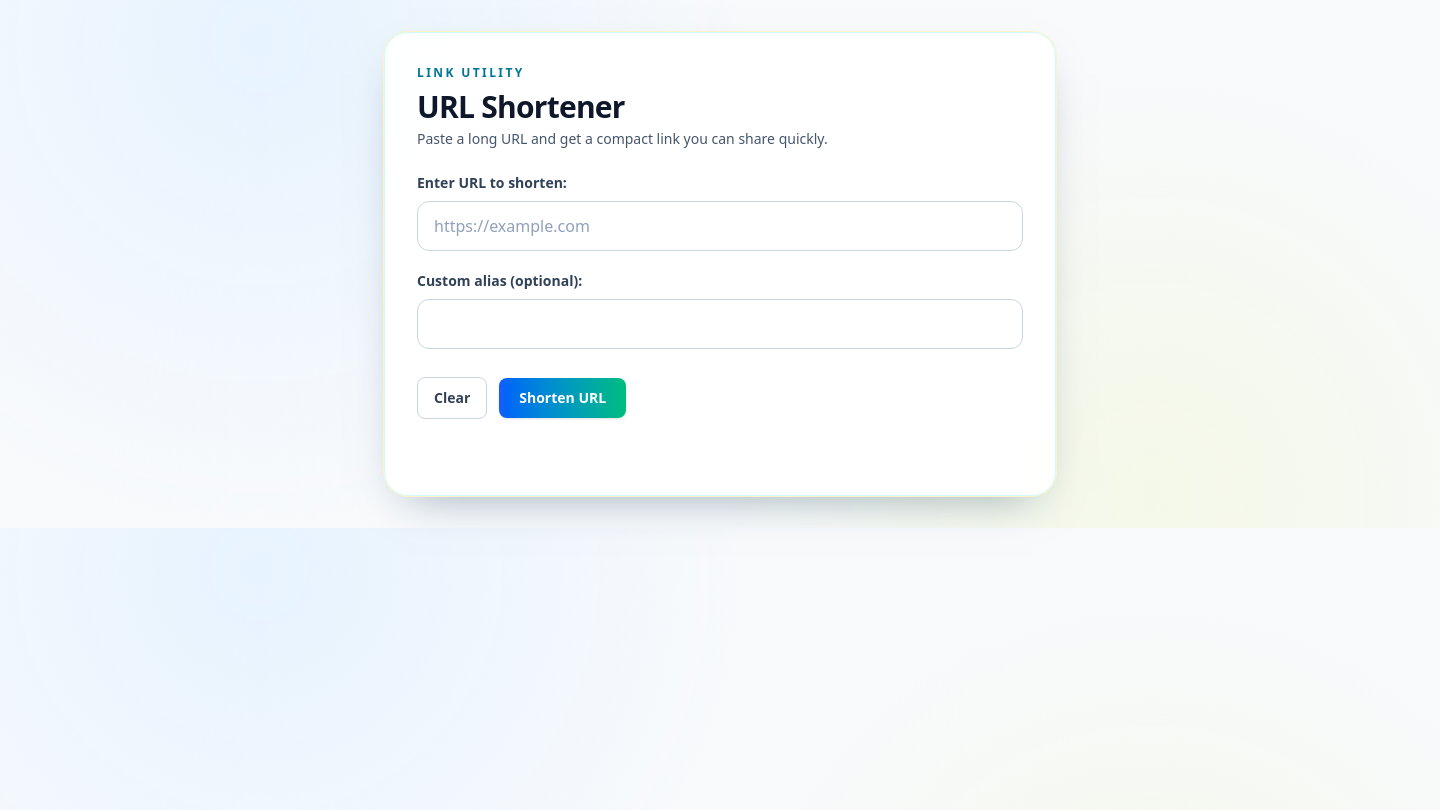
it: URLShortner unit › shows validation error for invalid URL
Type "not-a-valid-url" into the field labelled "Enter URL to shorten:".
click(720, 226); type("not-a-valid-url")  # box [417,201,1023,251]
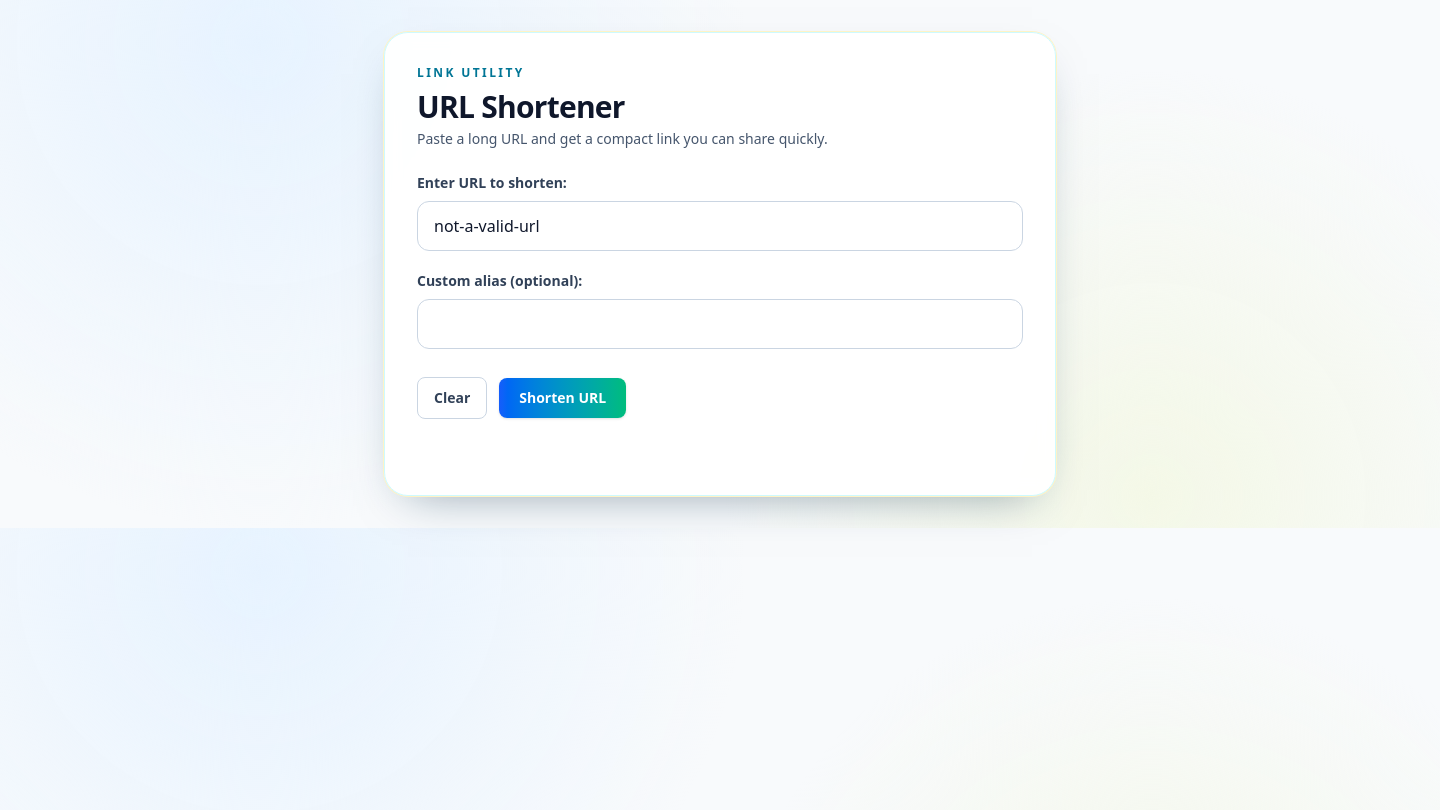
Click the button "Shorten URL".
click(563, 398)  # box [499,378,626,418]
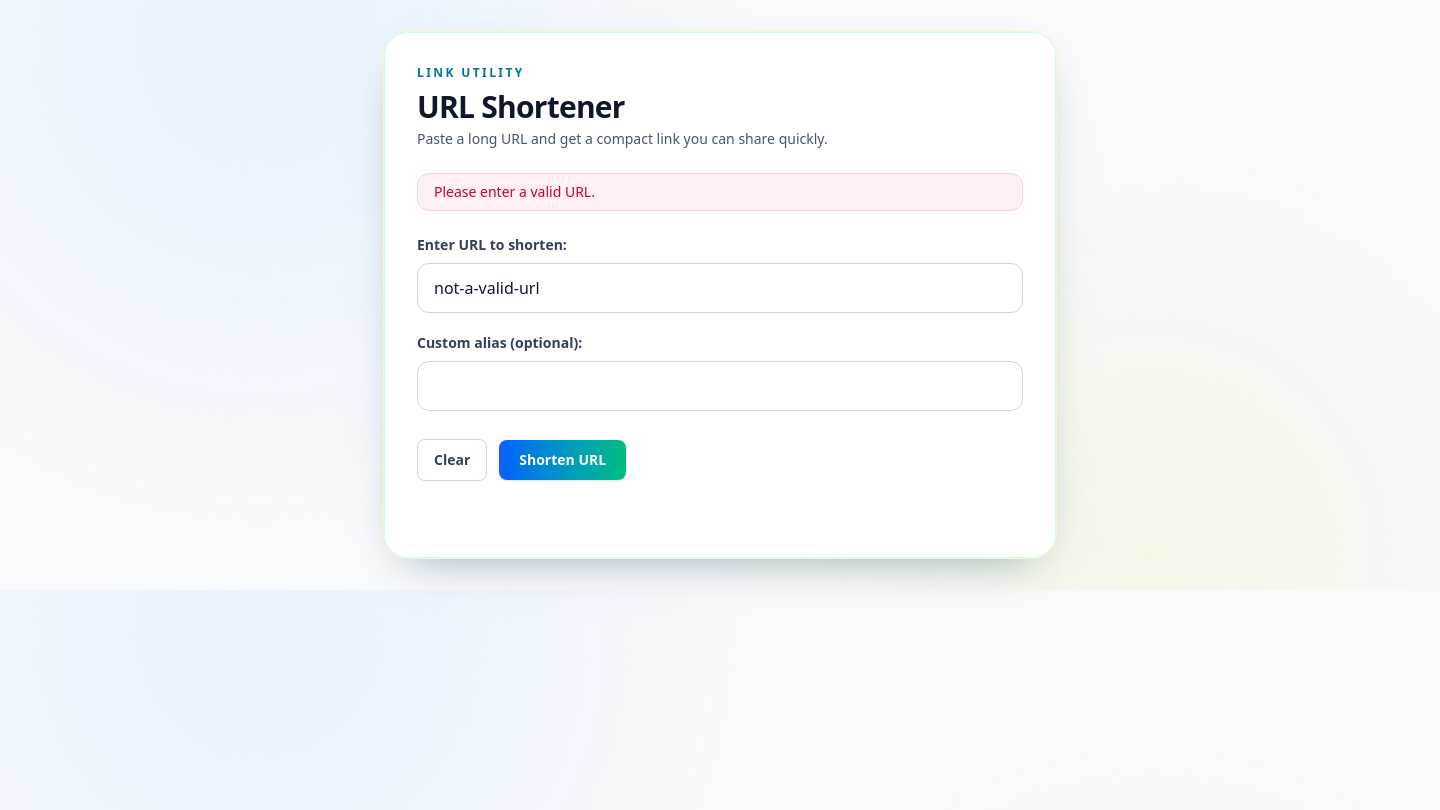
Expected: the message reads "Please enter a valid URL.", [434,182,595,201]
